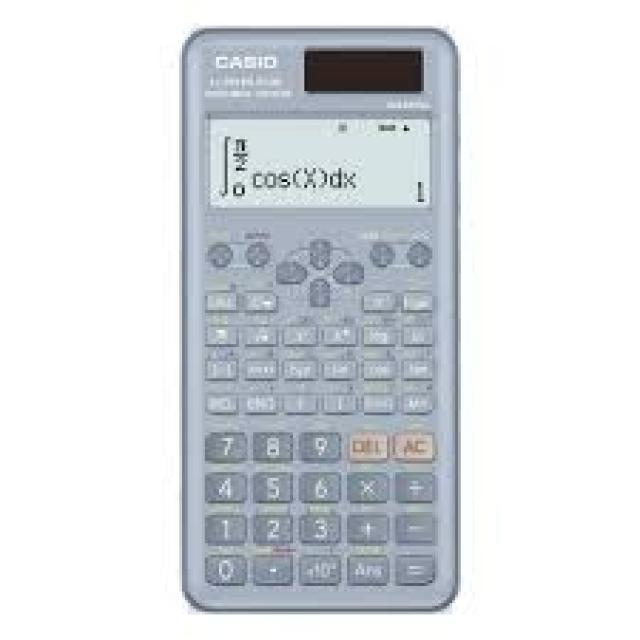Calculator: (147, 10, 488, 621)
